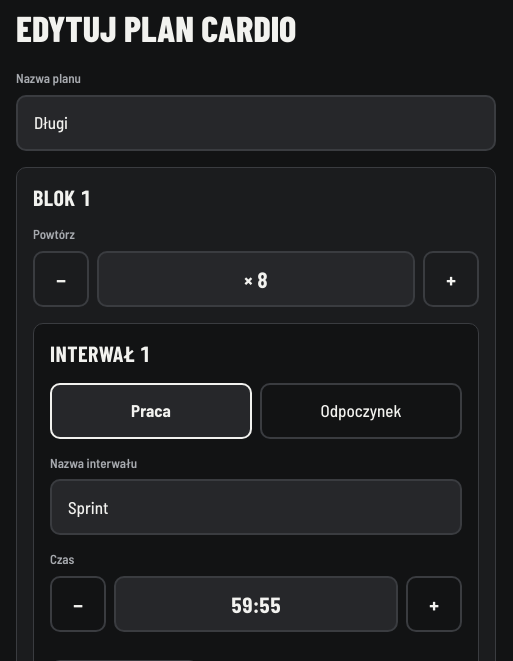
Scenario: CardioPlanEditor steppers › "Czas" stops at 60:00 at the top
What coordinates should you click on to do the following:
click the button "+" next to "59:55"
I would click on:
 (434, 604)
Its box is x1=406 y1=576 x2=462 y2=632.
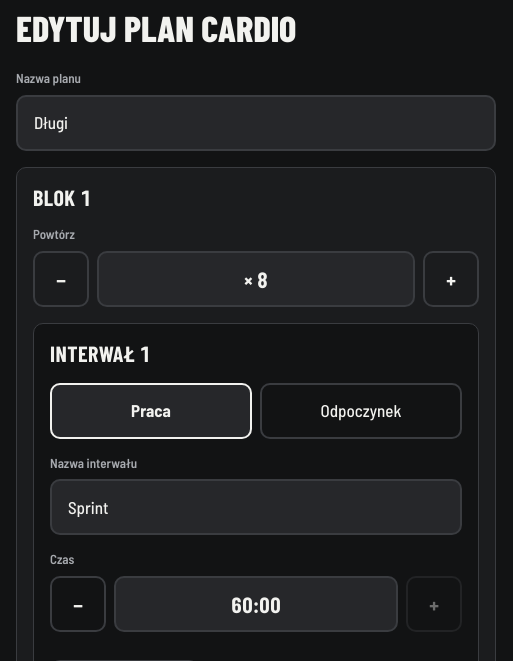
expect the button "+" next to "60:00" is disabled: met, box x1=406 y1=576 x2=462 y2=632
